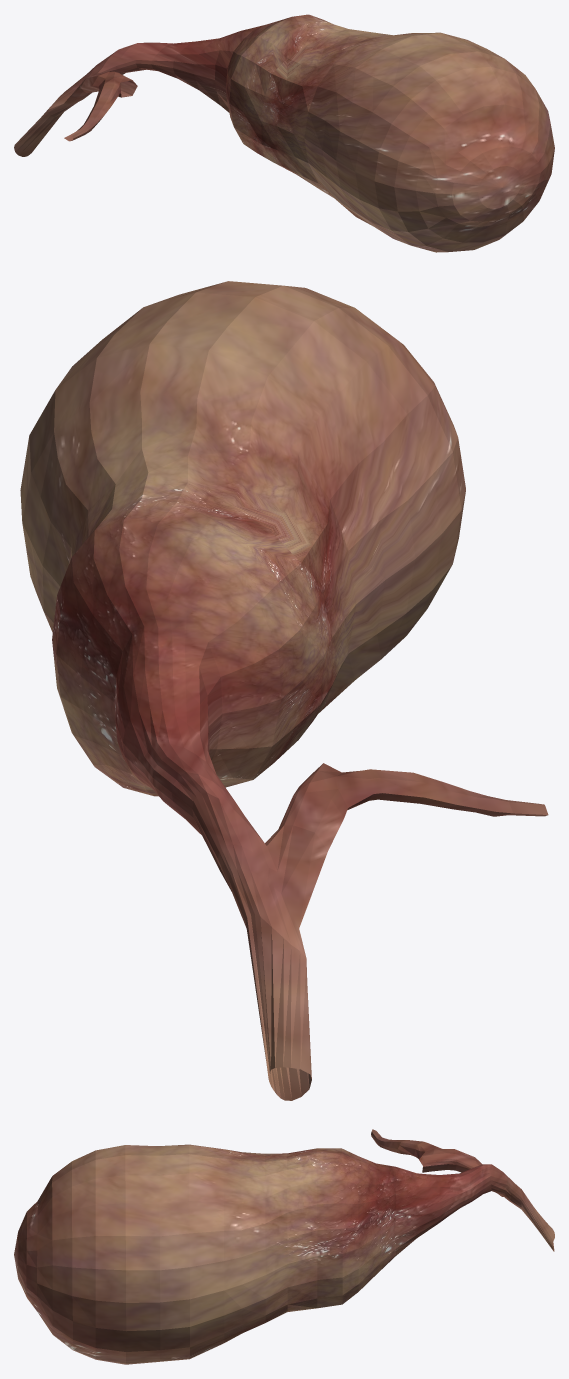
Rendered from in_parts.obj.
3 renders of one model, top to bottom at view 1: azimuth 30°, elevation 25°; view 2: azimuth 150°, elevation 25°; view 3: azimuth 270°, elevation 25°, orthographic. The views are drawn at different scales.
Visible parts, largest first — view 1: newOFF; view 2: newOFF; view 3: newOFF.
Part boxes in pixels (left/top/right/bottom): newOFF: left=14, top=14, right=554, bottom=252; newOFF: left=20, top=281, right=548, bottom=1100; newOFF: left=14, top=1129, right=554, bottom=1364.
Bounding box in the file's own units: 1.44 × 0.7628 × 1.79.
1 material, 1 textured.
